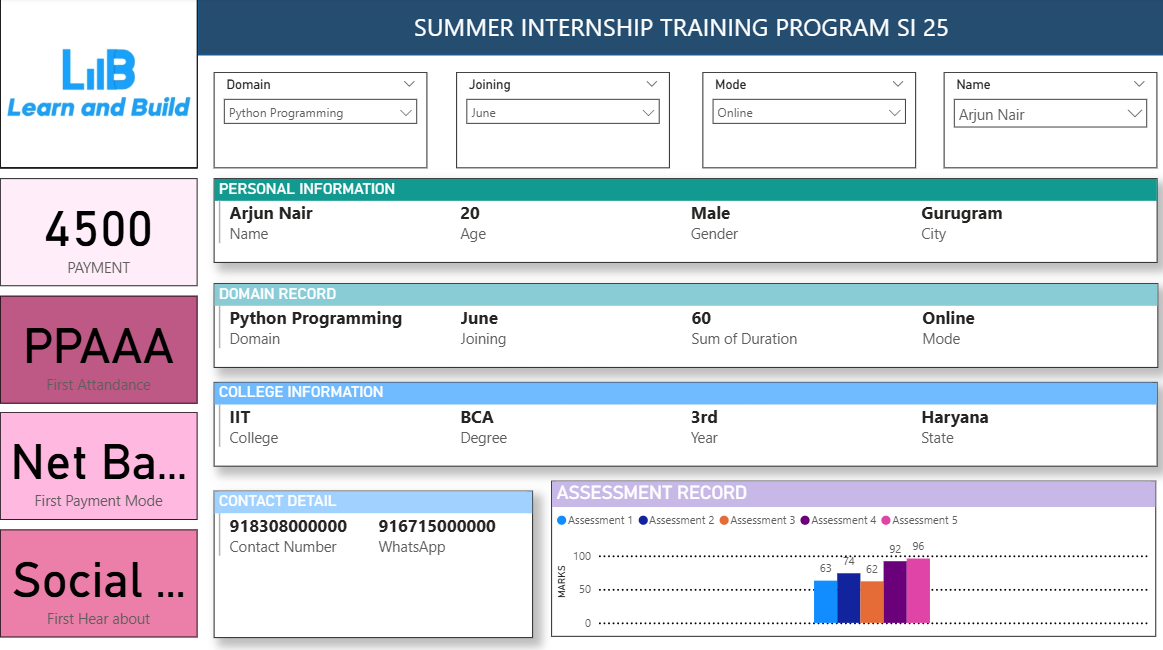

The page's visual inventory and layout, read from the dashboard file:
{"tool":"powerbi","page":{"name":"Student Information","canvas":[1280,720],"ordinal":1},"visuals":[{"type":"shape","box":[217.1,0,1062.9,64.3],"z":0},{"type":"image","box":[0,0,217.1,188.6],"z":1000},{"type":"slicer","fields":{"Values":["Domain Record.Domain"]},"box":[234.3,82.9,234.3,105.7],"z":2000},{"type":"slicer","fields":{"Values":["Domain Record.Joining"]},"box":[501.4,82.9,234.3,105.7],"z":3000},{"type":"slicer","fields":{"Values":["Student Record.Name"]},"box":[1035.7,82.9,234.3,105.7],"z":4000},{"type":"slicer","fields":{"Values":["Domain Record.Mode"]},"box":[771.4,82.9,234.3,105.7],"z":5000},{"type":"multiRowCard","title":"PERSONAL INFORMATION","fields":{"Values":["Student Record.Name","Sum(Student Record.Age)","Student Record.Gender","Student Record.City"]},"box":[234.3,198.6,1035.7,92.9],"z":6000},{"type":"multiRowCard","title":"DOMAIN RECORD","fields":{"Values":["Domain Record.Domain","Domain Record.Joining","Sum(Domain Record.Duration)","Domain Record.Mode"]},"box":[234.3,314.3,1037.1,92.9],"z":7000},{"type":"multiRowCard","title":"COLLEGE INFORMATION","fields":{"Values":["Student Record.College","Student Record.Degree","Student Record.Year","State.State"]},"box":[234.3,422.9,1035.7,92.9],"z":8000},{"type":"card","fields":{"Values":["Sum(Accounts.Payment)"]},"box":[0,198.6,217.1,118.6],"z":9000},{"type":"card","fields":{"Values":["Min(Accounts.Payment Mode)"]},"box":[0,455.7,217.1,118.6],"z":10000},{"type":"card","fields":{"Values":["Min(Accounts.Hear about)"]},"box":[0,584.3,217.1,118.6],"z":11000},{"type":"card","fields":{"Values":["Min(Domain Record.Attandance)"]},"box":[0,328.6,217.1,118.6],"z":12000},{"type":"multiRowCard","title":"CONTACT DETAIL","fields":{"Values":["Sum(Student Record.Contact Number)","Sum(Student Record.Alt NUmber)"]},"box":[234.3,541.4,350,161.4],"z":13000},{"type":"clusteredColumnChart","title":"ASSESSMENT RECORD","fields":{"Y":["Sum(Domain Record.Assessement 1)","Sum(Domain Record.Assessement 2)","Sum(Domain Record.Assessement 3)","Sum(Domain Record.Assessement 4)","Sum(Domain Record.Assessement 5)"]},"box":[605.7,531.4,664.3,171.4],"z":14000}]}

Visuals, with their boxes in screenshot pixels (x1, y1, x2, y2), scaled from the page's 1280x720 canvas onto the 1163x650 screenshot:
shape: bbox=(197, 0, 1162, 58)
image: bbox=(0, 0, 197, 170)
slicer - Domain Record.Domain: bbox=(213, 75, 426, 170)
slicer - Domain Record.Joining: bbox=(456, 75, 668, 170)
slicer - Student Record.Name: bbox=(941, 75, 1154, 170)
slicer - Domain Record.Mode: bbox=(701, 75, 914, 170)
"PERSONAL INFORMATION" multiRowCard: bbox=(213, 179, 1154, 263)
"DOMAIN RECORD" multiRowCard: bbox=(213, 284, 1155, 368)
"COLLEGE INFORMATION" multiRowCard: bbox=(213, 382, 1154, 466)
card - Sum(Accounts.Payment): bbox=(0, 179, 197, 286)
card - Min(Accounts.Payment Mode): bbox=(0, 411, 197, 518)
card - Min(Accounts.Hear about): bbox=(0, 527, 197, 635)
card - Min(Domain Record.Attandance): bbox=(0, 297, 197, 404)
"CONTACT DETAIL" multiRowCard: bbox=(213, 489, 531, 634)
"ASSESSMENT RECORD" clusteredColumnChart: bbox=(550, 480, 1154, 634)
